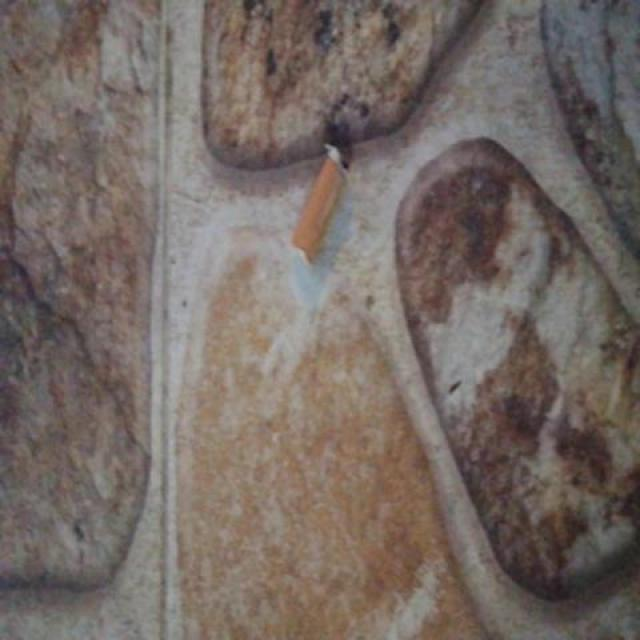non-organic waste: (288, 135, 355, 268)
